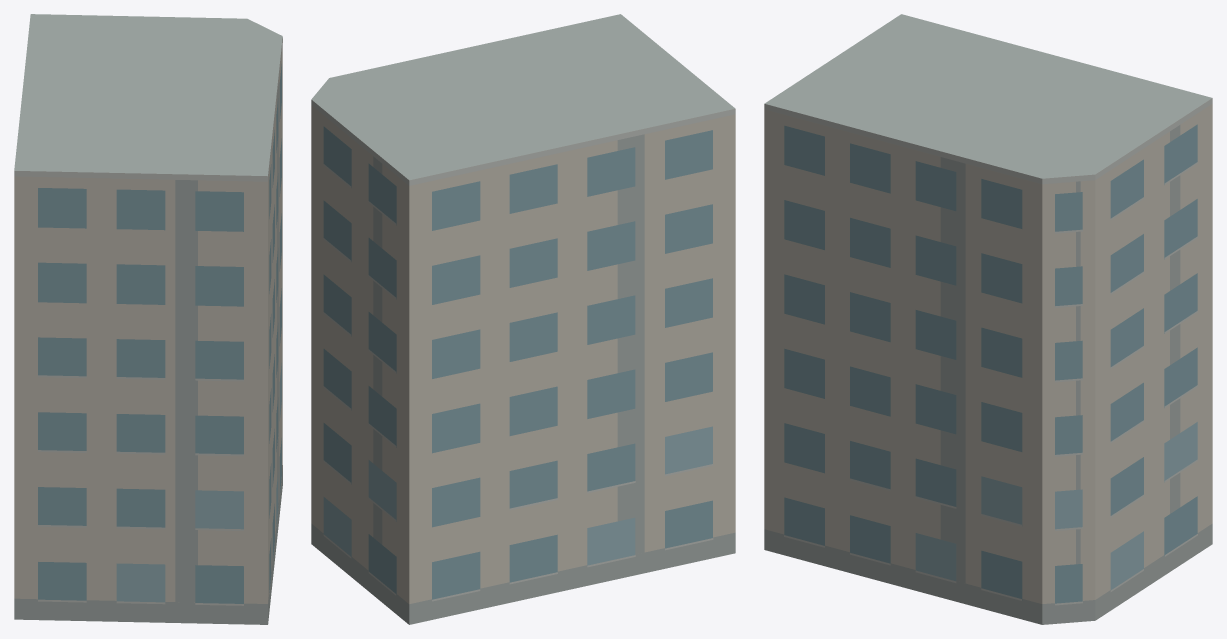
The model's file is survey-upis-32813204.glb.
The picture shows the model from 3 angles, left to right: view 1: azimuth 30°, elevation 25°; view 2: azimuth 150°, elevation 25°; view 3: azimuth 270°, elevation 25°; orthographic projection.
Parts seen in each view (by area): view 1: survey-upis-32813204.tmp; view 2: survey-upis-32813204.tmp; view 3: survey-upis-32813204.tmp.
Boxes of the visible parts, box(x1,y1,x2,y2) form: survey-upis-32813204.tmp: box(14, 14, 282, 624); survey-upis-32813204.tmp: box(311, 14, 735, 624); survey-upis-32813204.tmp: box(764, 14, 1212, 624).
Bounding box in the file's own units: 15.36 × 19.39 × 17.67.
